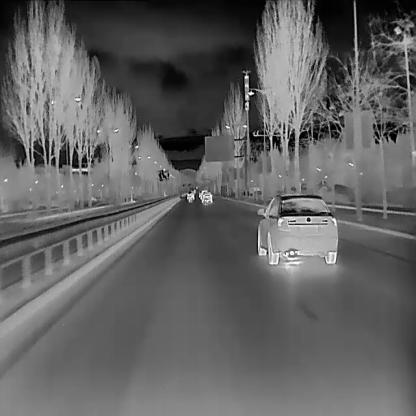car: (257, 191, 338, 265), (201, 191, 212, 203), (186, 190, 194, 200), (200, 189, 207, 199), (194, 185, 197, 189)
